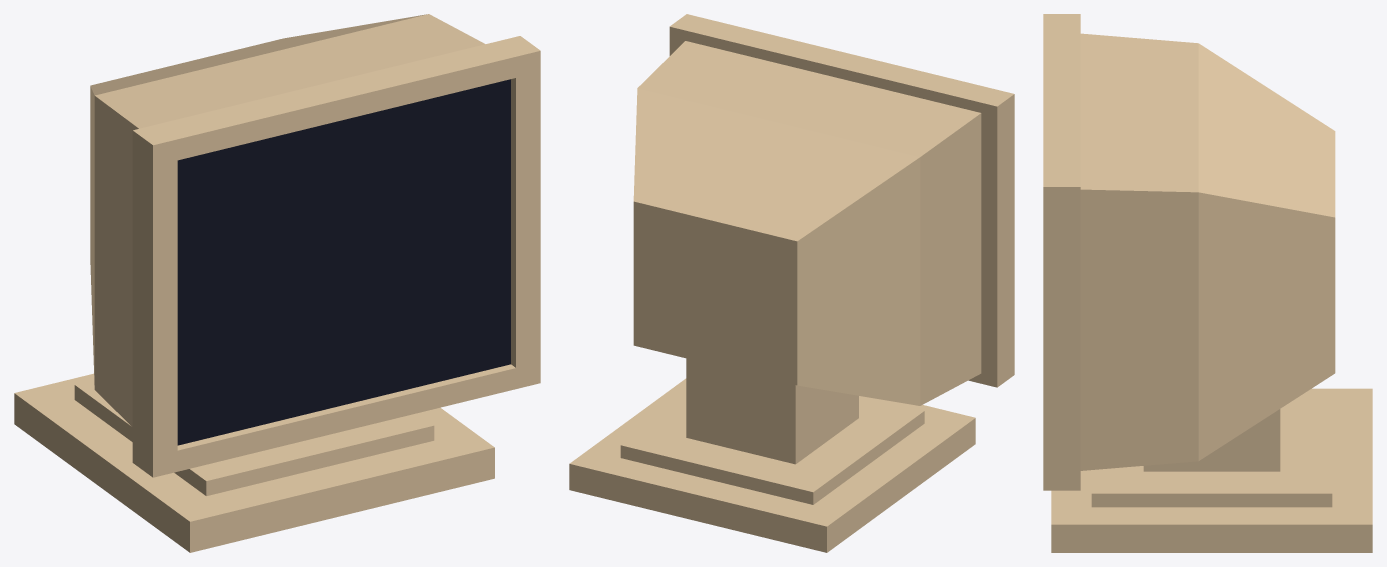
File: Computer.fbx
3 renders of one model, left to right at view 1: azimuth 30°, elevation 25°; view 2: azimuth 150°, elevation 25°; view 3: azimuth 270°, elevation 25°, orthographic. The views are drawn at different scales.
Parts seen in each view (by area): view 1: Computer; view 2: Computer; view 3: Computer.
Boxes of the visible parts, bbox=[...] form: Computer: bbox=[14, 14, 540, 552]; Computer: bbox=[569, 14, 1014, 552]; Computer: bbox=[1043, 14, 1372, 552].
Size of the model in its own units: 366 by 380 by 295.
